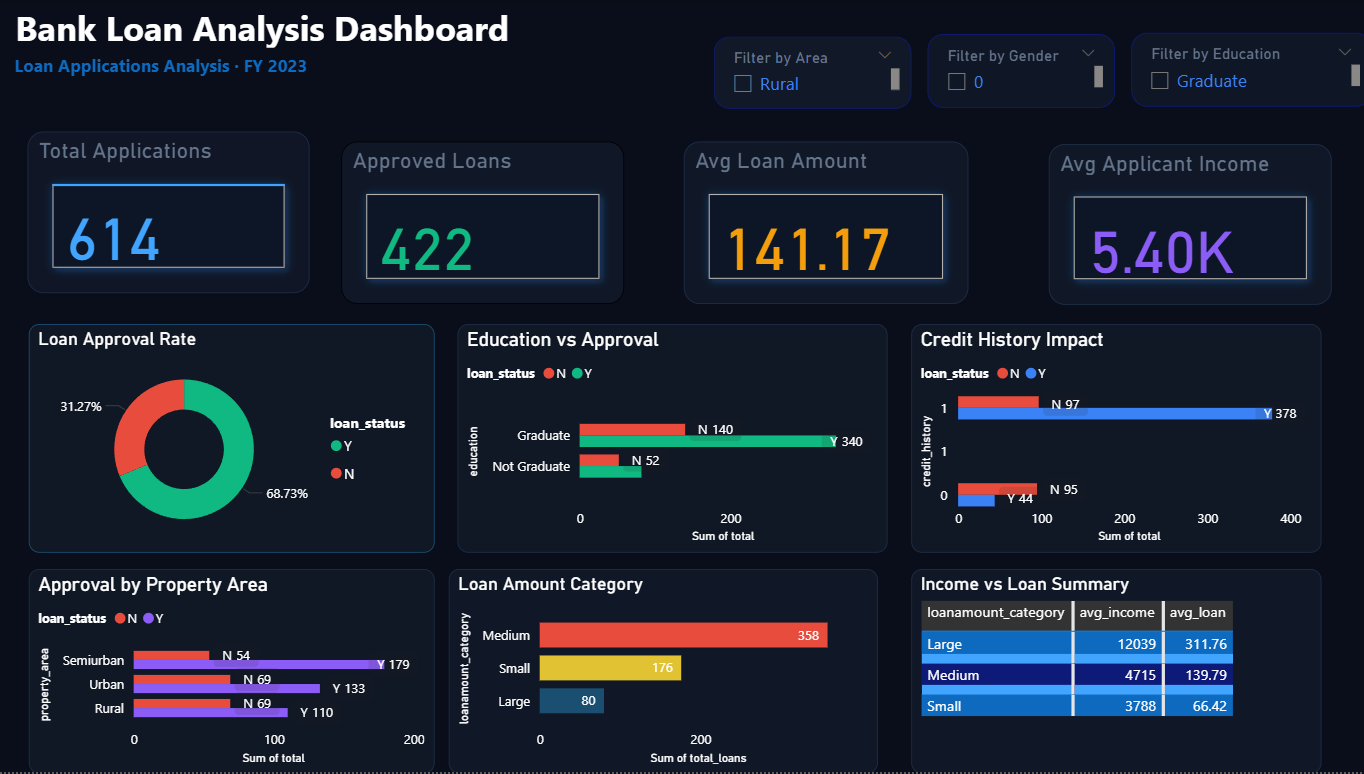

What the dashboard file says about the page in this screenshot:
{"tool":"powerbi","page":{"name":"Page 1","canvas":[1280,720],"ordinal":0},"visuals":[{"type":"textbox","box":[10.5,0,539.5,62.8],"z":0},{"type":"cardVisual","title":"Total Applications","fields":{"Data":["CountNonNull(loan_cleaned.Loan_ID)"]},"box":[30.2,123.3,262.8,150],"z":1000},{"type":"cardVisual","title":"Approved Loans","fields":{"Data":["loan_cleaned.Approved Loans"]},"box":[322.5,133.1,263.5,150.9],"z":2000},{"type":"cardVisual","title":"Avg Loan Amount","fields":{"Data":["Avg(loan_cleaned.LoanAmount)"]},"box":[640.8,133.1,264.8,150.9],"z":3000},{"type":"cardVisual","title":"Avg Applicant Income","fields":{"Data":["Avg(loan_cleaned.ApplicantIncome)"]},"box":[979.8,134.5,263.5,149.6],"z":4000},{"type":"slicer","fields":{"Values":["loan_cleaned.Property_Area"]},"box":[668.3,34.3,183.9,67.2],"z":5000},{"type":"slicer","fields":{"Values":["loan_cleaned.Gender"]},"box":[867.2,32.9,174.3,68.6],"z":6000},{"type":"slicer","fields":{"Values":["loan_cleaned.Education"]},"box":[1056.6,31.6,223.7,68.6],"z":7000},{"type":"donutChart","title":"Loan Approval Rate","fields":{"Category":["query1_approval_rate.loan_status"],"Y":["Sum(query1_approval_rate.total)"]},"box":[31.6,301.9,377.4,212.7],"z":8000},{"type":"clusteredBarChart","title":"Education vs Approval","fields":{"Category":["query2_education.education"],"Y":["Sum(query2_education.total)"],"Series":["query2_education.loan_status"]},"box":[430.2,302.3,400,212.8],"z":9000},{"type":"clusteredBarChart","title":"Credit History Impact","fields":{"Category":["query5_credit_history.credit_history"],"Y":["Sum(query5_credit_history.total)"],"Series":["query5_credit_history.loan_status"]},"box":[852.1,301.9,381.5,212.7],"z":10000},{"type":"clusteredBarChart","title":"Approval by Property Area","fields":{"Category":["query3_property.property_area"],"Y":["Sum(query3_property.total)"],"Series":["query3_property.loan_status"]},"box":[31.6,529.7,377.4,190.7],"z":11000},{"type":"clusteredBarChart","title":"Loan Amount Category","fields":{"Category":["query4_income_loan.loanamount_category"],"Y":["Sum(query4_income_loan.total_loans)"]},"box":[422.6,529.7,399.3,190.7],"z":12000},{"type":"tableEx","title":"Income vs Loan Summary","fields":{"Values":["query4_income_loan.loanamount_category","query4_income_loan.avg_income","query4_income_loan.avg_loan"]},"box":[852.1,529.7,381.5,190.7],"z":13000},{"type":"textbox","box":[0,45.3,322.1,39.5],"z":14000}]}

Visuals, with their boxes in screenshot pixels (x1, y1, x2, y2), scaled from the page's 1280x720 canvas onto the 1364x774 screenshot:
textbox: (11,0,586,68)
"Total Applications" cardVisual: (32,133,312,294)
"Approved Loans" cardVisual: (344,143,624,305)
"Avg Loan Amount" cardVisual: (683,143,965,305)
"Avg Applicant Income" cardVisual: (1044,145,1325,305)
slicer - loan_cleaned.Property_Area: (712,37,908,109)
slicer - loan_cleaned.Gender: (924,35,1110,109)
slicer - loan_cleaned.Education: (1126,34,1363,108)
"Loan Approval Rate" donutChart: (34,325,436,553)
"Education vs Approval" clusteredBarChart: (458,325,885,554)
"Credit History Impact" clusteredBarChart: (908,325,1315,553)
"Approval by Property Area" clusteredBarChart: (34,569,436,773)
"Loan Amount Category" clusteredBarChart: (450,569,876,773)
"Income vs Loan Summary" tableEx: (908,569,1315,773)
textbox: (0,49,343,91)
